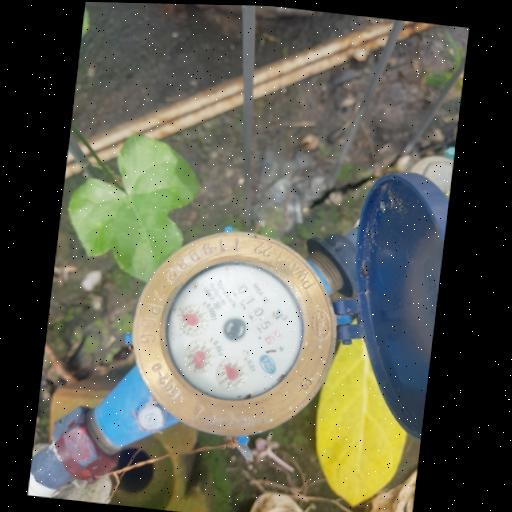0: (246, 304, 267, 324), (231, 281, 251, 301)
1: (238, 292, 259, 312)
5: (255, 315, 275, 335)
6: (262, 327, 283, 347)
border_water_meter_number: (226, 280, 289, 348)
